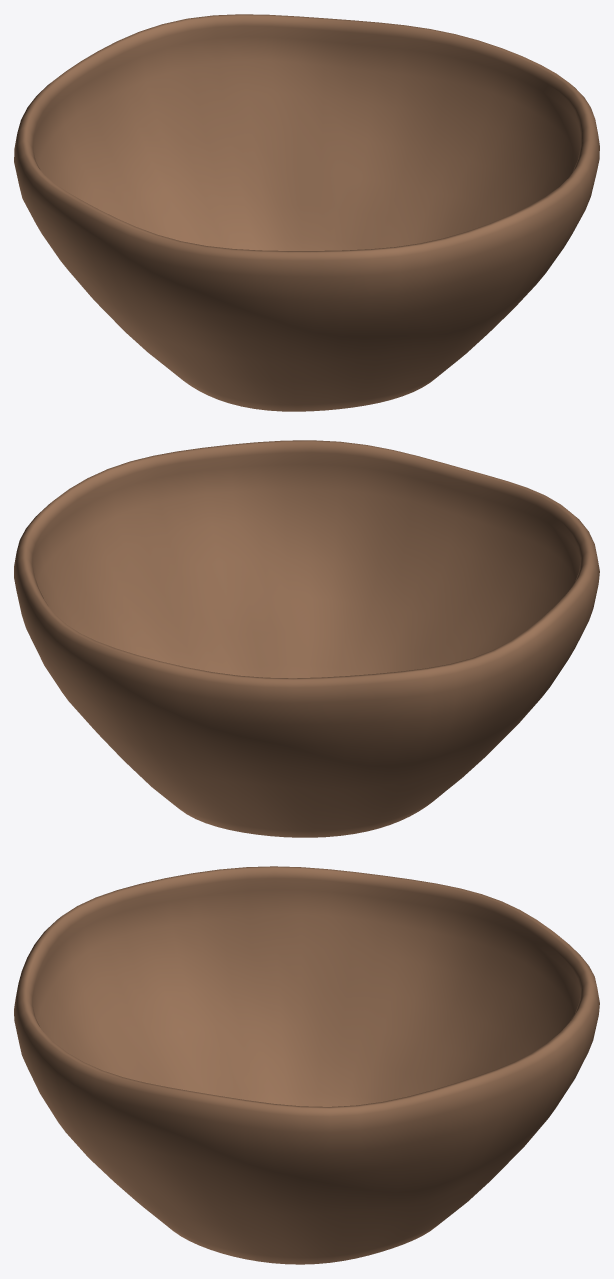
Rendered from bowl_smoothed.glb.
The picture shows the model from 3 angles, top to bottom: view 1: azimuth 30°, elevation 25°; view 2: azimuth 150°, elevation 25°; view 3: azimuth 270°, elevation 25°; orthographic projection.
Visible parts, largest first — view 1: bowl_smoothed; view 2: bowl_smoothed; view 3: bowl_smoothed.
Boxes of the visible parts, <box> form: bowl_smoothed: <box>14,14,599,411</box>; bowl_smoothed: <box>14,440,599,837</box>; bowl_smoothed: <box>14,866,599,1264</box>.
Bounding box in the file's own units: 0.214 × 0.0906 × 0.214.
